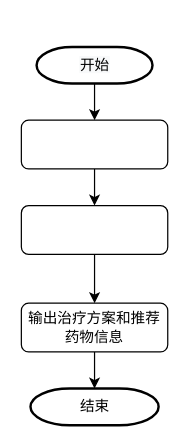
The diagram is 189 pixels wide and 447 high, and some of its shapes have lost their labels. The box of each missing label's shape, as (x1, y1, x2, y2) in pixels:
根据知识库智能诊断疾病: (20, 204, 168, 254)
输入急救病人生命体参数: (20, 119, 168, 169)
